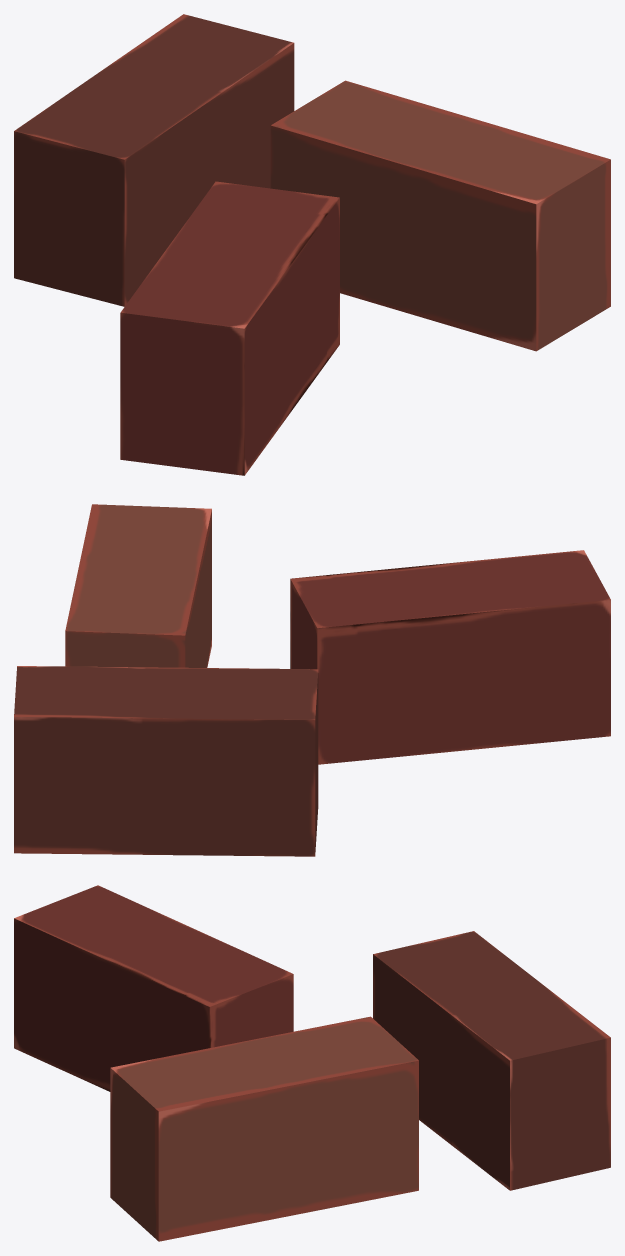
Rendered from debris_bricks02.fbx.
The picture shows the model from 3 angles, top to bottom: view 1: azimuth 30°, elevation 25°; view 2: azimuth 150°, elevation 25°; view 3: azimuth 270°, elevation 25°; orthographic projection. The views are drawn at different scales.
Visible parts, largest first — view 1: debris_bricks02; view 2: debris_bricks02; view 3: debris_bricks02.
Part boxes in pixels (x1,y1,x2,y2): debris_bricks02: (14,14,610,475); debris_bricks02: (14,504,610,856); debris_bricks02: (14,885,610,1241).
Bounding box in the file's own units: 93.32 × 25 × 104.
